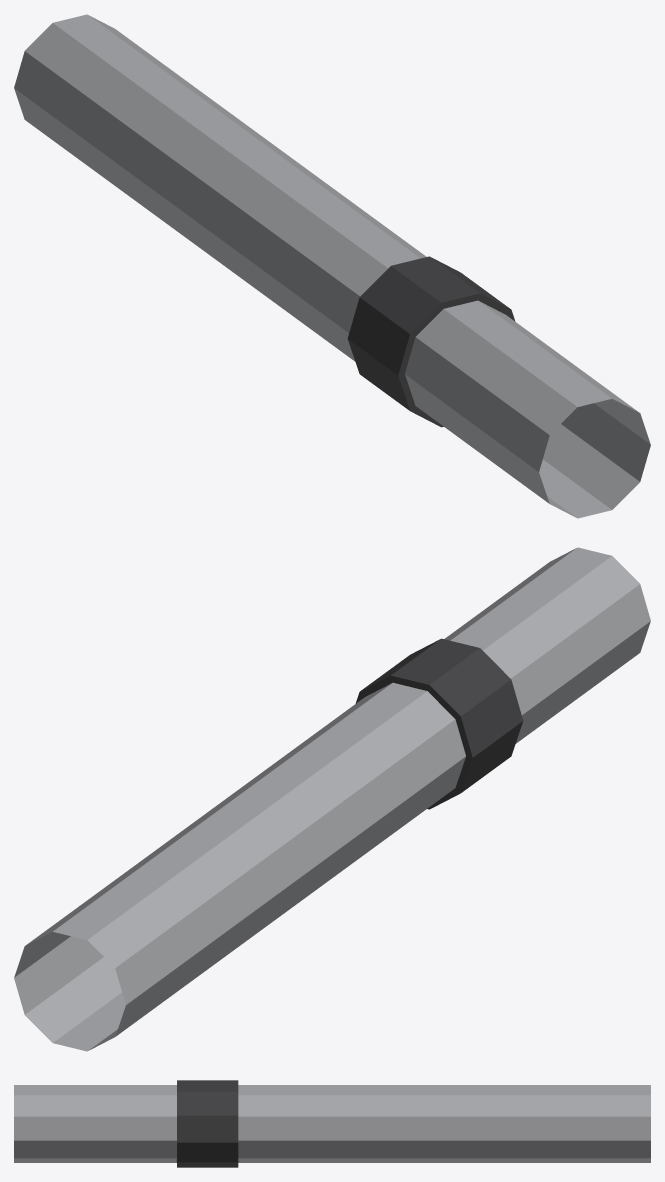
Rendered from BigPipe02.fbx.
3 views of the same model, one above another, from view 1: azimuth 30°, elevation 25°; view 2: azimuth 150°, elevation 25°; view 3: azimuth 270°, elevation 25° (orthographic). The views are drawn at different scales.
Visible parts, largest first — view 1: BigPipe02; view 2: BigPipe02; view 3: BigPipe02.
Part boxes in pixels (x1,y1,x2,y2): BigPipe02: (14,14,650,518); BigPipe02: (14,547,650,1051); BigPipe02: (14,1080,650,1167).
Size of the model in its own units: 32.39 by 30.8 by 235.
